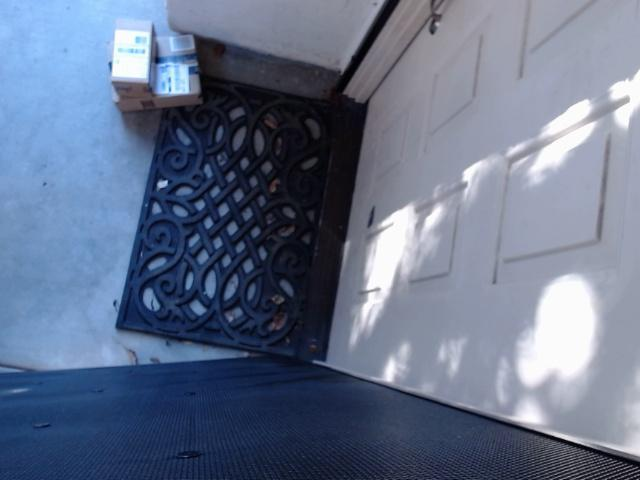box: (107, 32, 203, 113), (111, 19, 156, 96)
